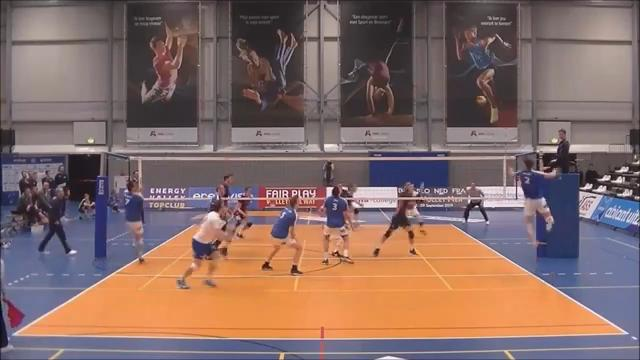Attack: (506, 158, 562, 251)
Player: (177, 200, 226, 288), (373, 183, 417, 256), (262, 195, 302, 275), (320, 187, 352, 264), (125, 181, 143, 262), (216, 174, 234, 233), (337, 184, 358, 230), (234, 187, 251, 238), (346, 184, 360, 229), (407, 200, 425, 234)
ball: (476, 94, 486, 105)
